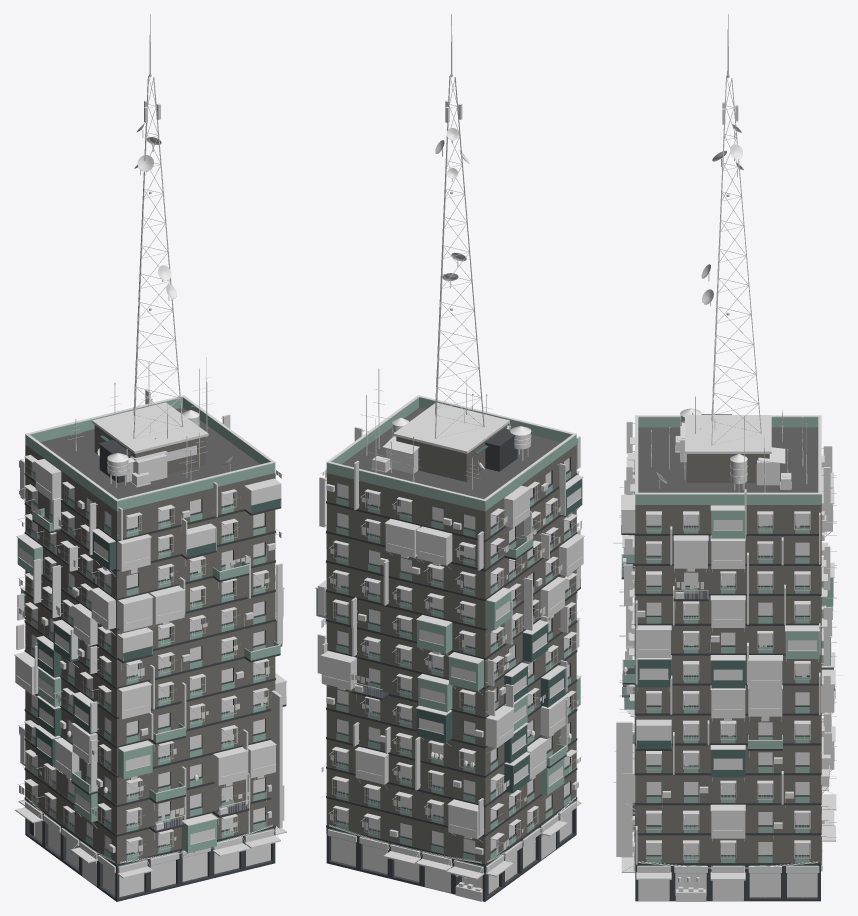
File: LM_KS_SignalSpire.fbx
The picture shows the model from 3 angles, left to right: view 1: azimuth 30°, elevation 25°; view 2: azimuth 150°, elevation 25°; view 3: azimuth 270°, elevation 25°; orthographic projection.
Parts seen in each view (by area): view 1: LM_KS_SignalSpire_LOD0; view 2: LM_KS_SignalSpire_LOD0; view 3: LM_KS_SignalSpire_LOD0.
Part boxes in pixels (x1,y1,x2,y2): LM_KS_SignalSpire_LOD0: (14,14,286,901); LM_KS_SignalSpire_LOD0: (315,14,584,901); LM_KS_SignalSpire_LOD0: (613,14,843,901).
Size of what is drawn, in the model's own units: 22.31 by 90.69 by 22.34.
